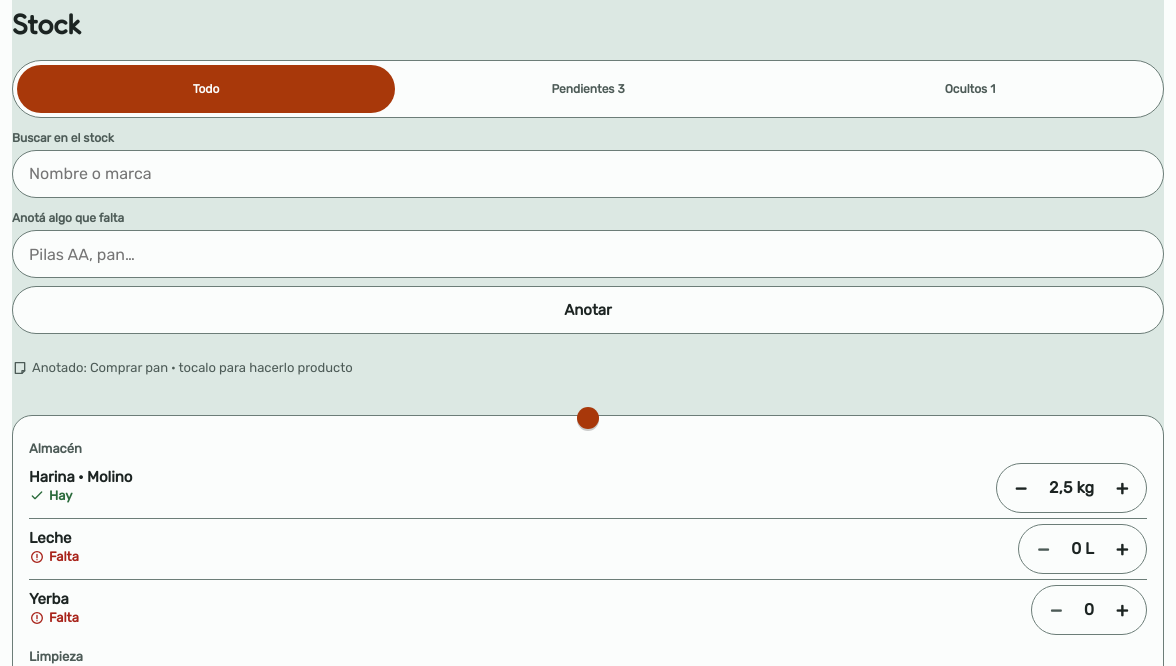
dos toques de − antes de que se vuelva a dibujar: 2,5 kg → 2 → 1 (cada uno parte de lo último)
Check: the tab "Todo" is shown, box [17,65,395,113]
Step 1. Click the button named "Restar a Harina · Molino" → x=1021, y=488, box [997,464,1045,512]
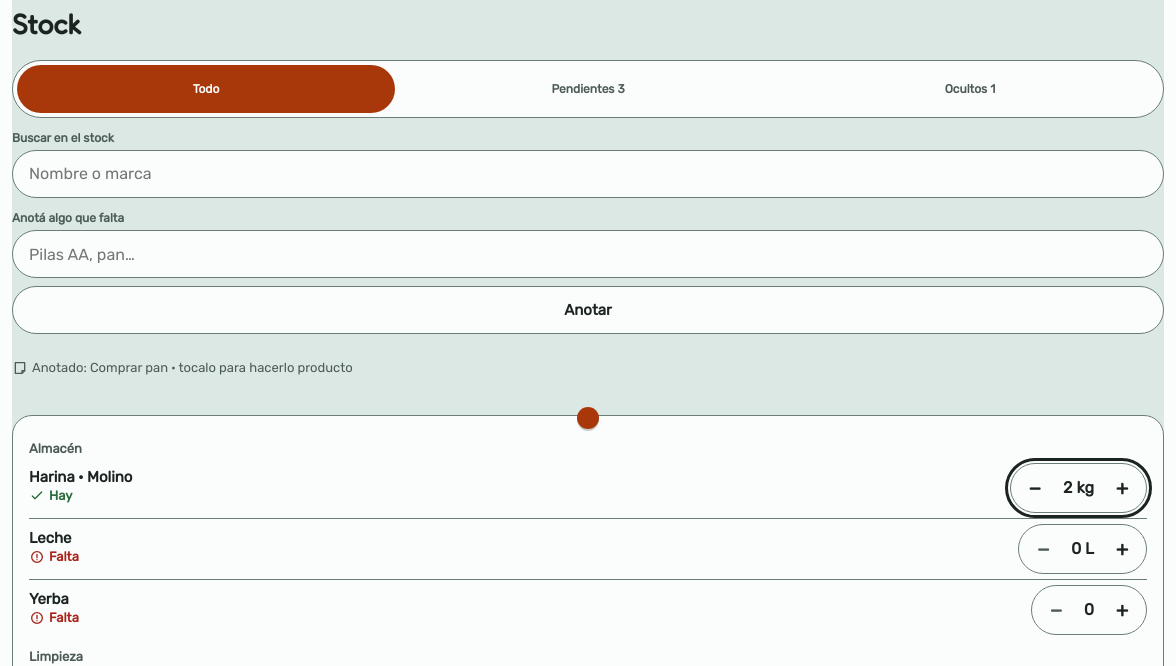
Step 2. Click the button named "Restar a Harina · Molino" → x=1035, y=488, box [1011,464,1059,512]
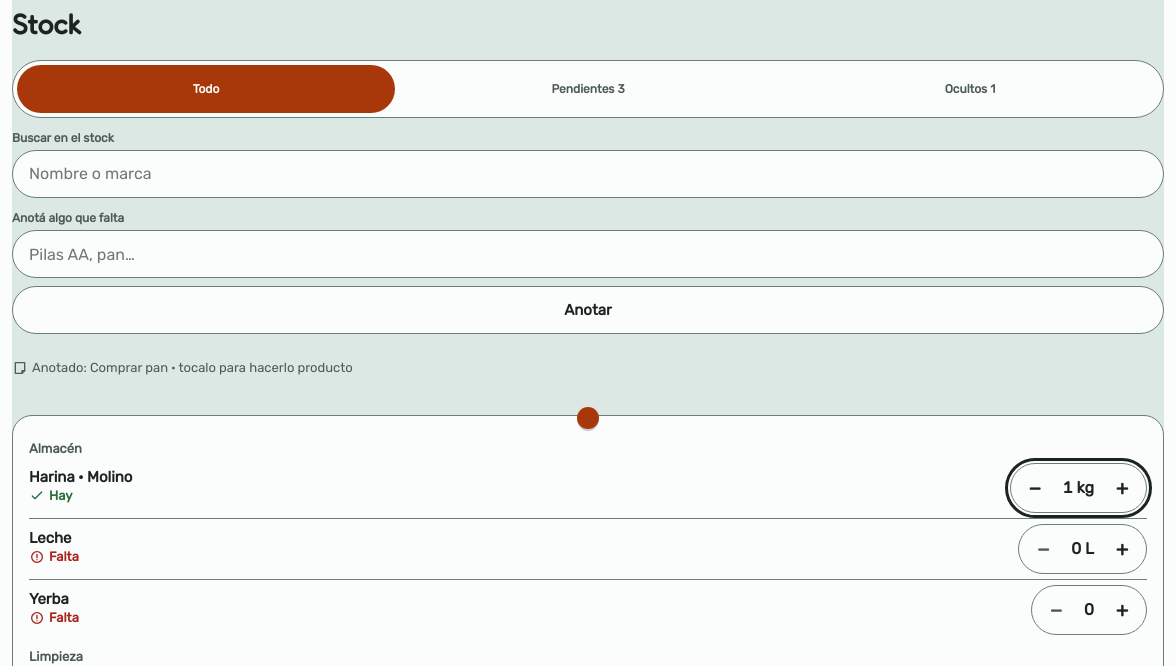
Check: the button with aria-label "Cantidad de Harina · Molino: 1 kg" is shown, box [1059,464,1098,512]
